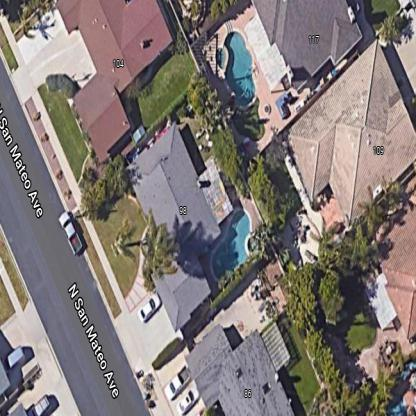pool: (208, 204, 255, 283), (215, 27, 258, 104)
